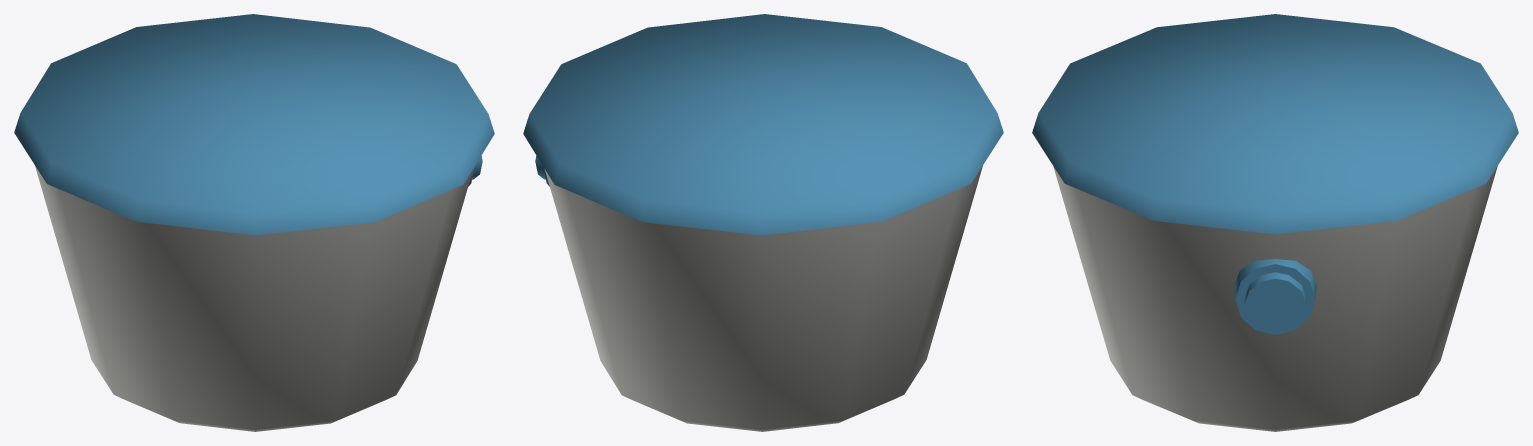
The model's file is caixa_dagua.fbx.
The picture shows the model from 3 angles, left to right: view 1: azimuth 30°, elevation 25°; view 2: azimuth 150°, elevation 25°; view 3: azimuth 270°, elevation 25°; orthographic projection.
Parts seen in each view (by area): view 1: Cylinder.016; view 2: Cylinder.016; view 3: Cylinder.016.
Boxes of the visible parts, x1,y1,x2,y2 form: Cylinder.016: [14, 14, 494, 431]; Cylinder.016: [523, 14, 1003, 431]; Cylinder.016: [1032, 14, 1518, 431].
Size of the model in its own units: 200 by 120 by 200.
